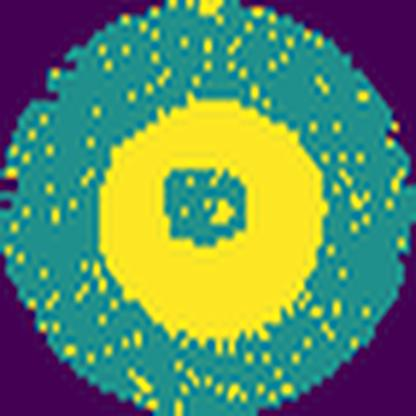Donut: (89, 90, 333, 350)
